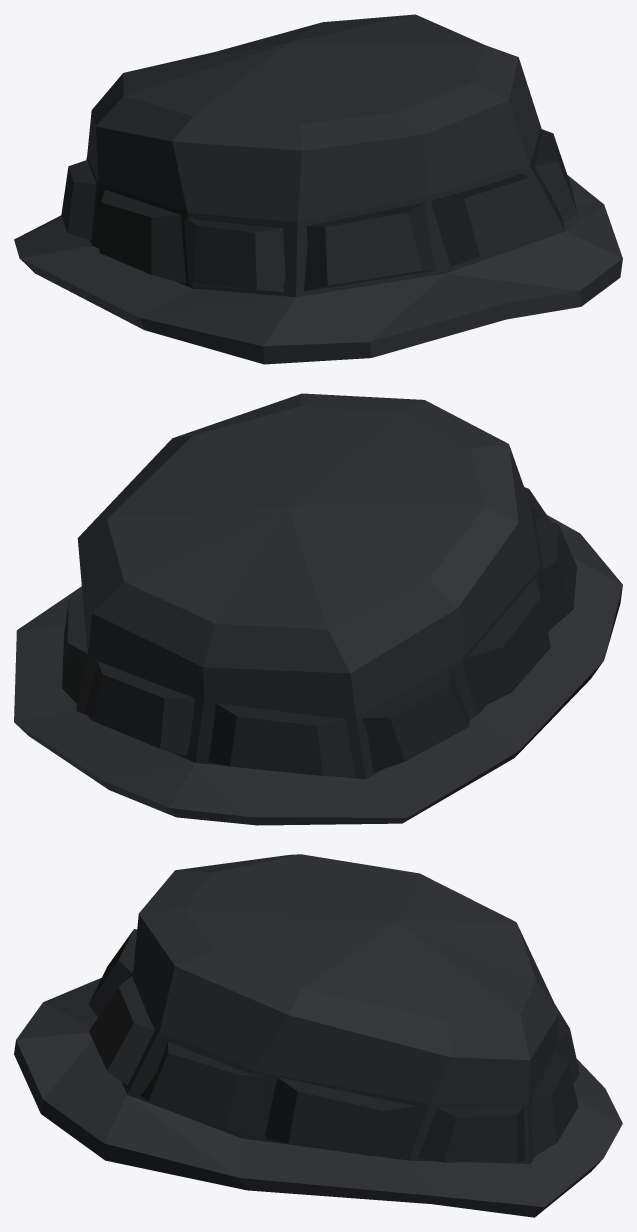
Rendered from SM_Chr_Attach_Hat_03.fbx.
The picture shows the model from 3 angles, top to bottom: view 1: azimuth 30°, elevation 25°; view 2: azimuth 150°, elevation 25°; view 3: azimuth 270°, elevation 25°; orthographic projection. The views are drawn at different scales.
Visible parts, largest first — view 1: SM_Chr_Attach_Hat_03; view 2: SM_Chr_Attach_Hat_03; view 3: SM_Chr_Attach_Hat_03.
Boxes of the visible parts, x1,y1,x2,y2 form: SM_Chr_Attach_Hat_03: (14,14,622,364); SM_Chr_Attach_Hat_03: (14,393,622,825); SM_Chr_Attach_Hat_03: (14,854,622,1217).
Size of the model in its own units: 36.24 by 16.69 by 40.26.
